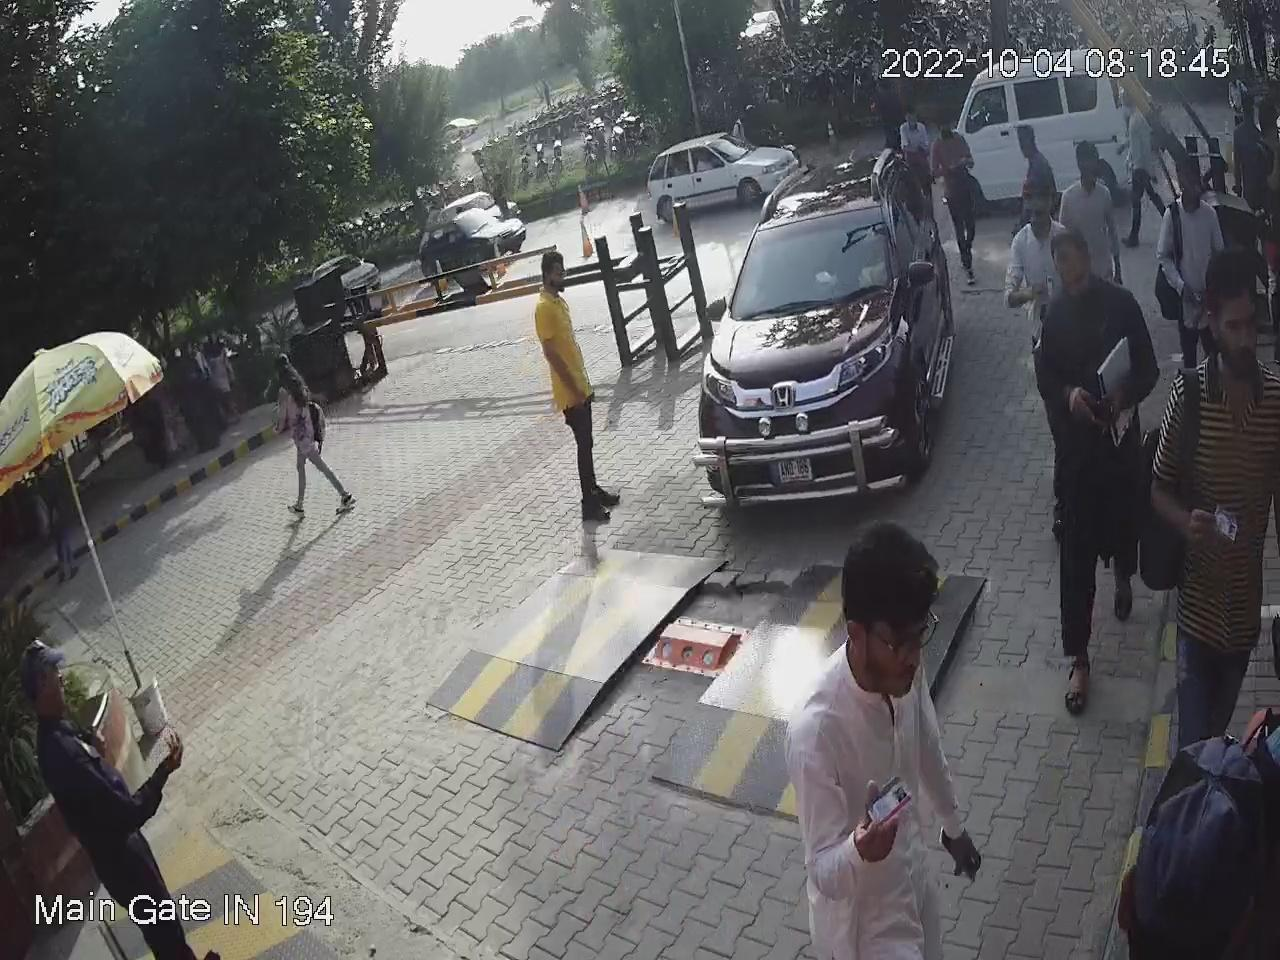windshield: (726, 195, 893, 320)
